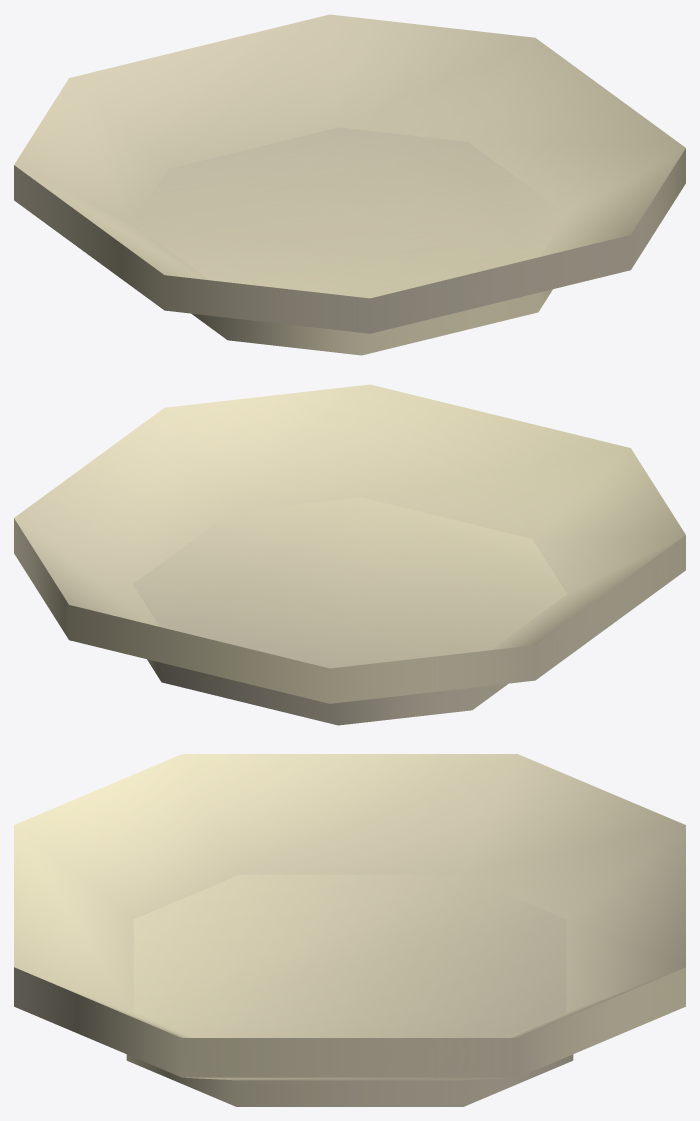
The model's file is plate_ceramic.fbx.
The picture shows the model from 3 angles, top to bottom: view 1: azimuth 30°, elevation 25°; view 2: azimuth 150°, elevation 25°; view 3: azimuth 270°, elevation 25°; orthographic projection. The views are drawn at different scales.
Visible parts, largest first — view 1: plate_ceramic; view 2: plate_ceramic; view 3: plate_ceramic.
Boxes of the visible parts, bbox=[...] form: plate_ceramic: bbox=[14, 14, 685, 355]; plate_ceramic: bbox=[14, 384, 685, 725]; plate_ceramic: bbox=[14, 754, 685, 1106].
Bounding box in the file's own units: 51.71 × 9.88 × 51.71.
